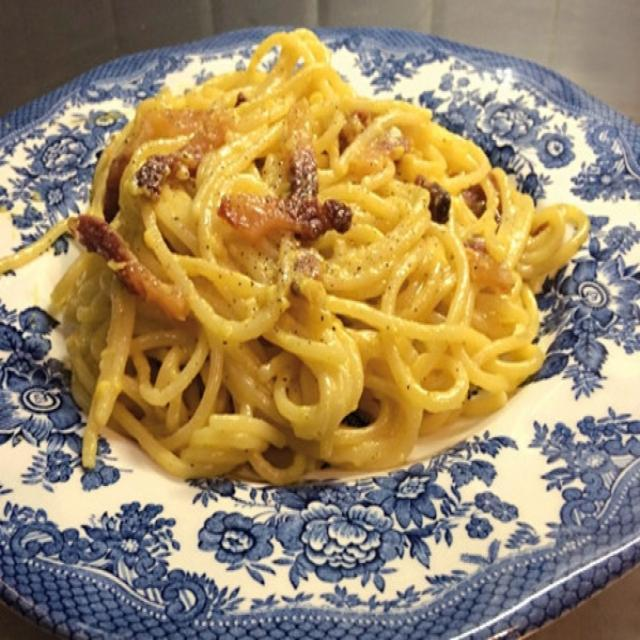Pasta with carbonara sauce: (38, 41, 590, 520)
